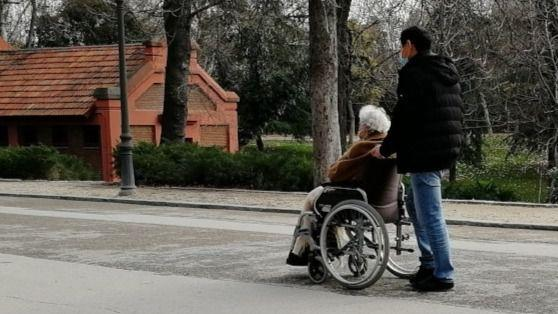push_wheelchair: (370, 26, 463, 292)
wheelchair: (285, 104, 443, 290)
